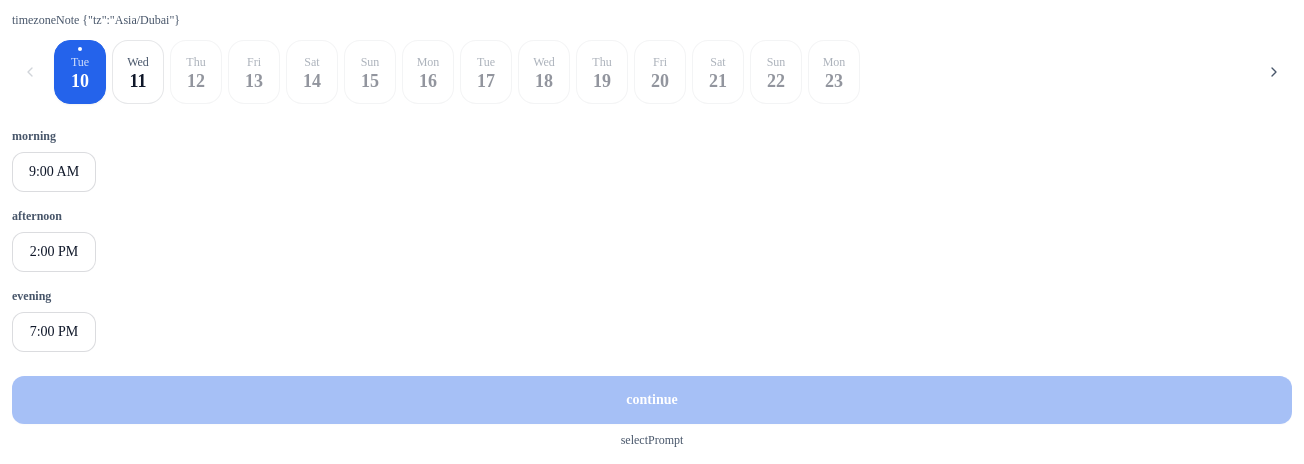
Test: AvailabilityPicker slot rendering › shows an empty-day state for a day with no openings
Click the button "Thu 12": (196, 72) [170,40,222,104]
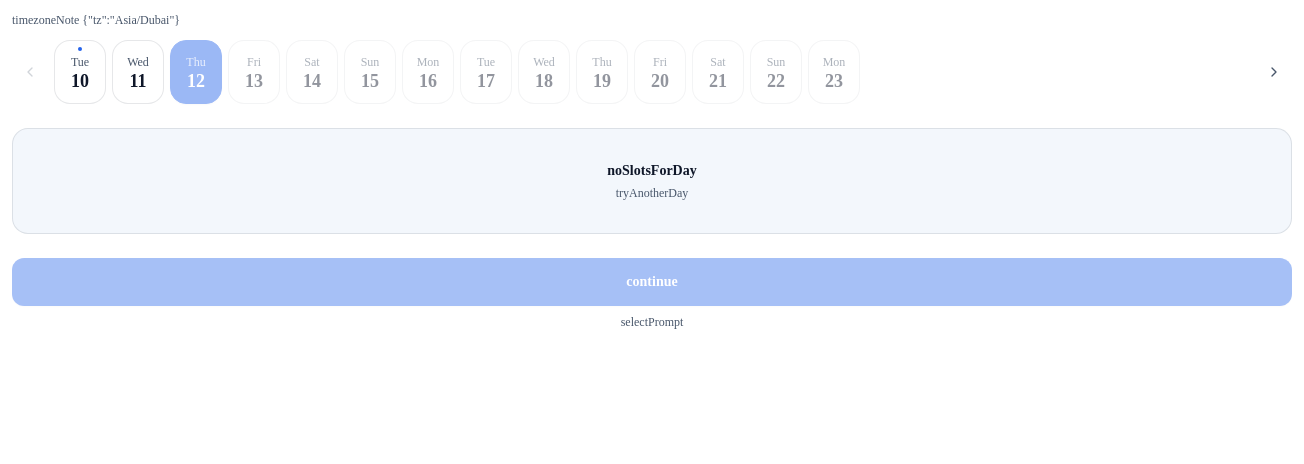
Expected: the text "morning" is gone
